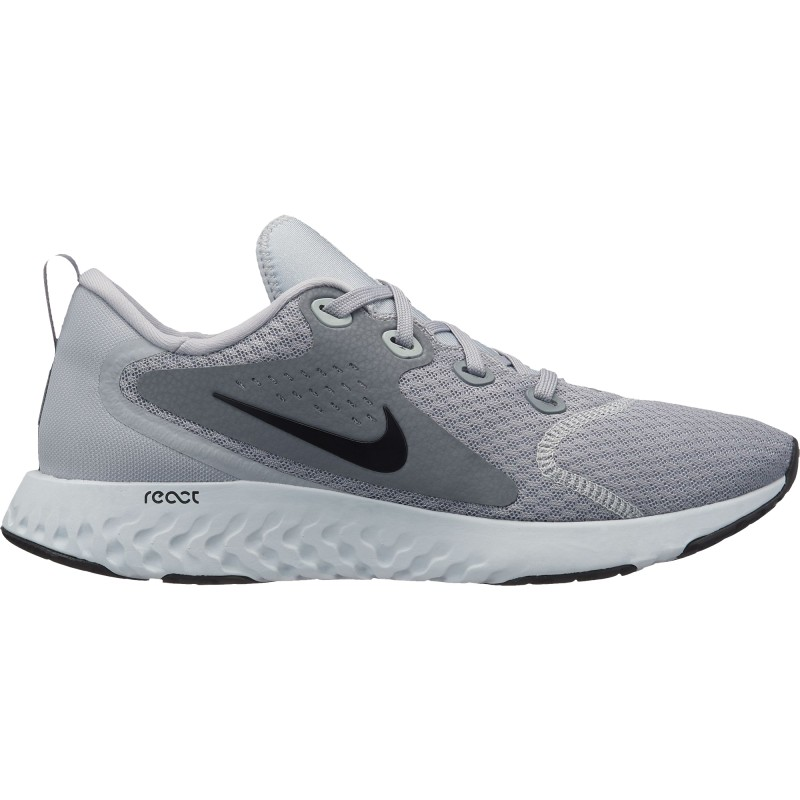nike: (216, 390, 414, 477)
